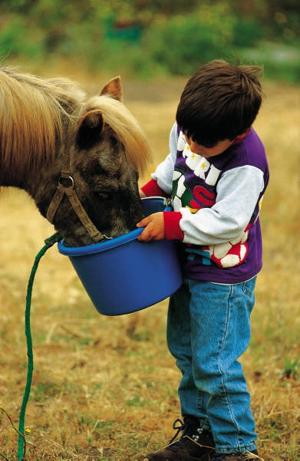person: (139, 58, 269, 461)
